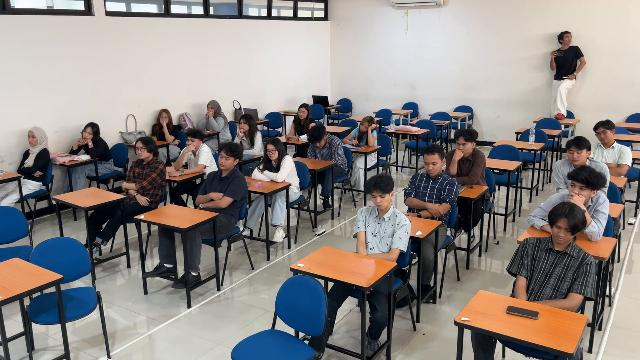bingung: (552, 223, 572, 244), (568, 148, 587, 165), (371, 193, 389, 210), (424, 158, 441, 176), (218, 151, 232, 170), (569, 182, 588, 196), (595, 129, 610, 143), (455, 140, 469, 154), (136, 143, 148, 159), (267, 147, 279, 160), (27, 131, 37, 146), (239, 119, 249, 131), (186, 136, 197, 146), (83, 128, 92, 140), (298, 109, 308, 119), (159, 114, 169, 122), (360, 123, 368, 132)
